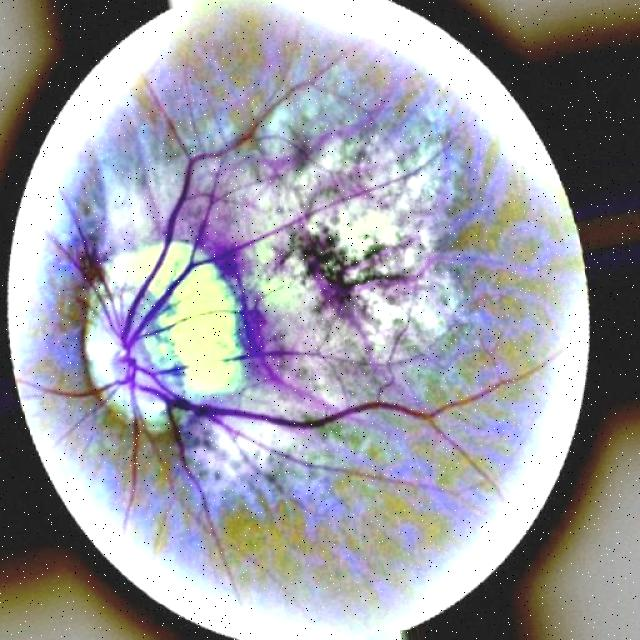Nerves: (21, 61, 549, 548), (292, 145, 315, 171)
